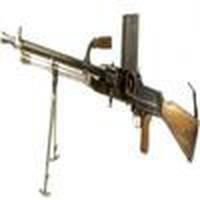gun: (1, 13, 200, 158)
